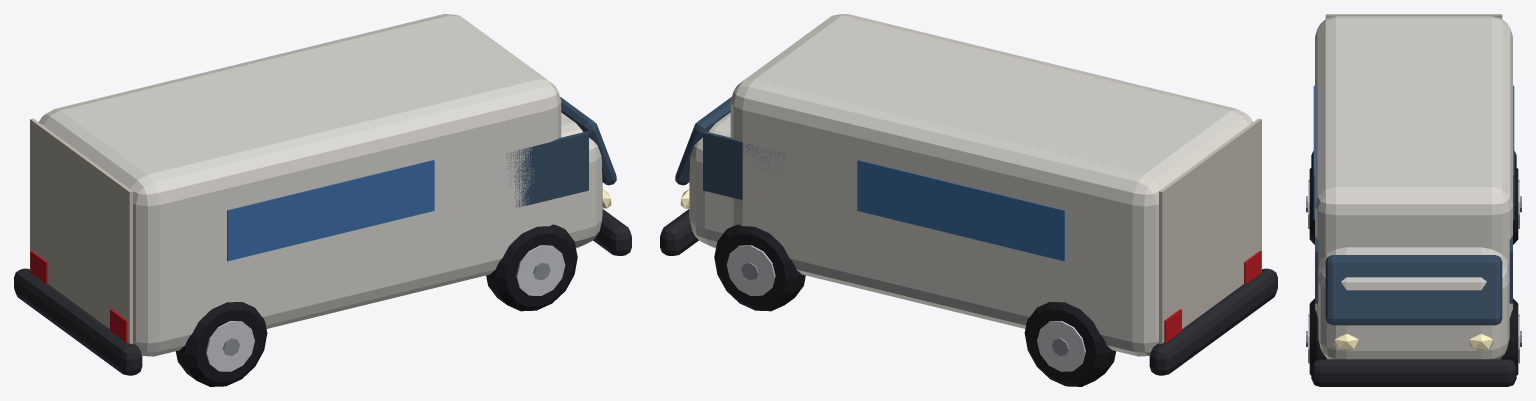
File: van_2014.glb
The picture shows the model from 3 angles, left to right: view 1: azimuth 30°, elevation 25°; view 2: azimuth 150°, elevation 25°; view 3: azimuth 270°, elevation 25°; orthographic projection. The views are drawn at different scales.
Parts seen in each view (by area): view 1: van_2014, wheel_0, wheel_1; view 2: van_2014, wheel_2, wheel_3; view 3: van_2014, wheel_0, wheel_2, wheel_1, wheel_3.
Part boxes in pixels (bbox=[...]): van_2014: bbox=[14, 14, 631, 375]; wheel_0: bbox=[486, 224, 577, 311]; wheel_1: bbox=[176, 302, 267, 386]; van_2014: bbox=[660, 14, 1277, 375]; wheel_2: bbox=[714, 224, 805, 311]; wheel_3: bbox=[1024, 302, 1115, 386]; van_2014: bbox=[1311, 14, 1516, 386]; wheel_0: bbox=[1306, 298, 1326, 375]; wheel_2: bbox=[1501, 298, 1521, 375]; wheel_1: bbox=[1306, 165, 1314, 244]; wheel_3: bbox=[1513, 165, 1521, 244].
Size of the model in its own units: 1.48 by 0.61 by 0.61.
